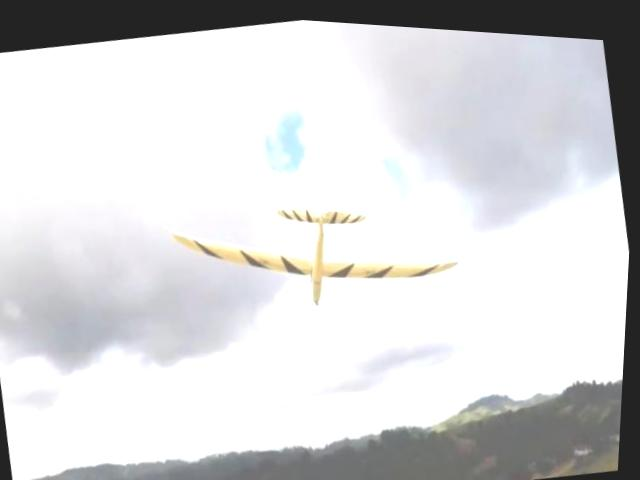iha: (153, 118, 477, 338)
